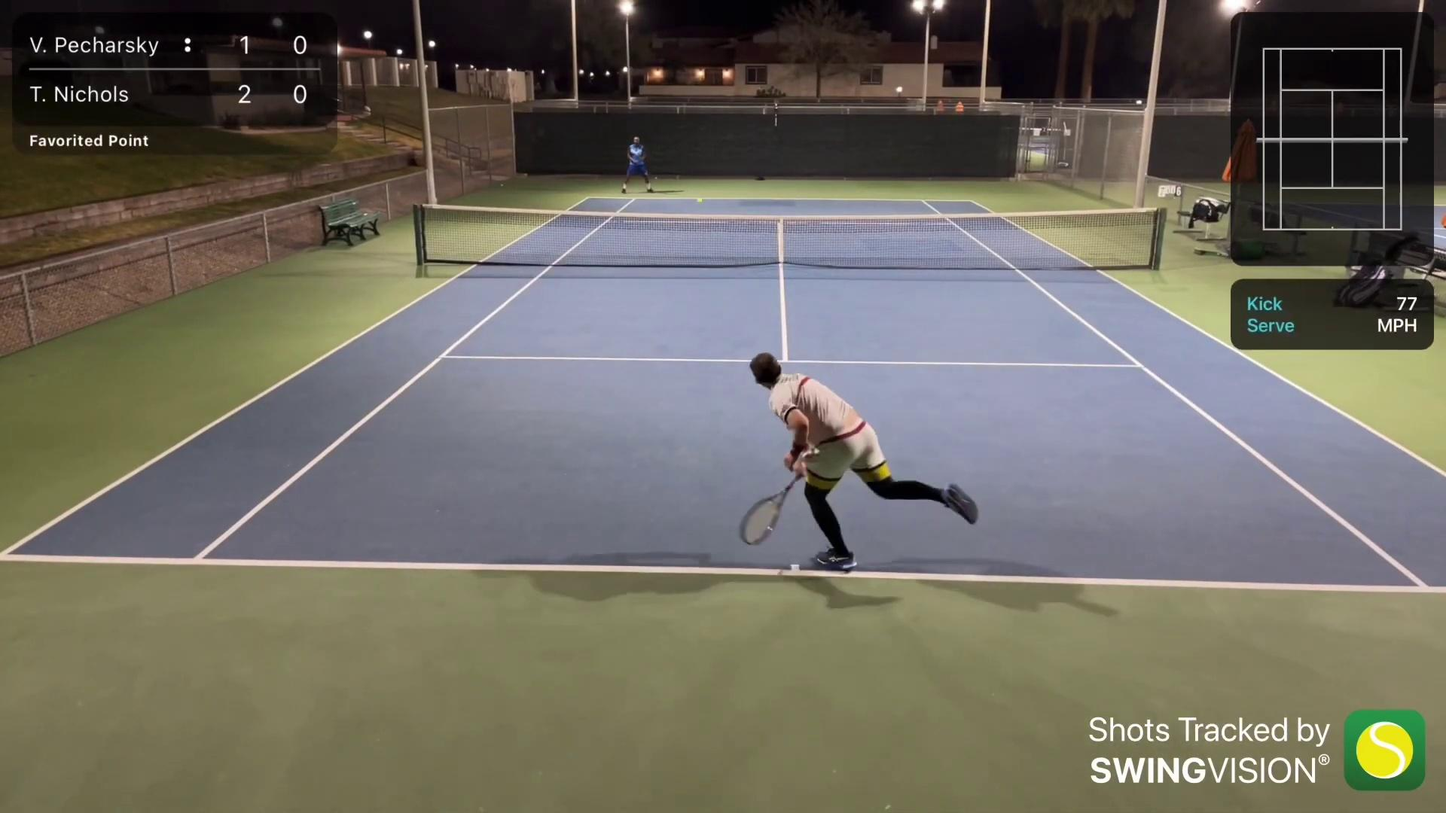ball: (695, 197, 706, 204)
